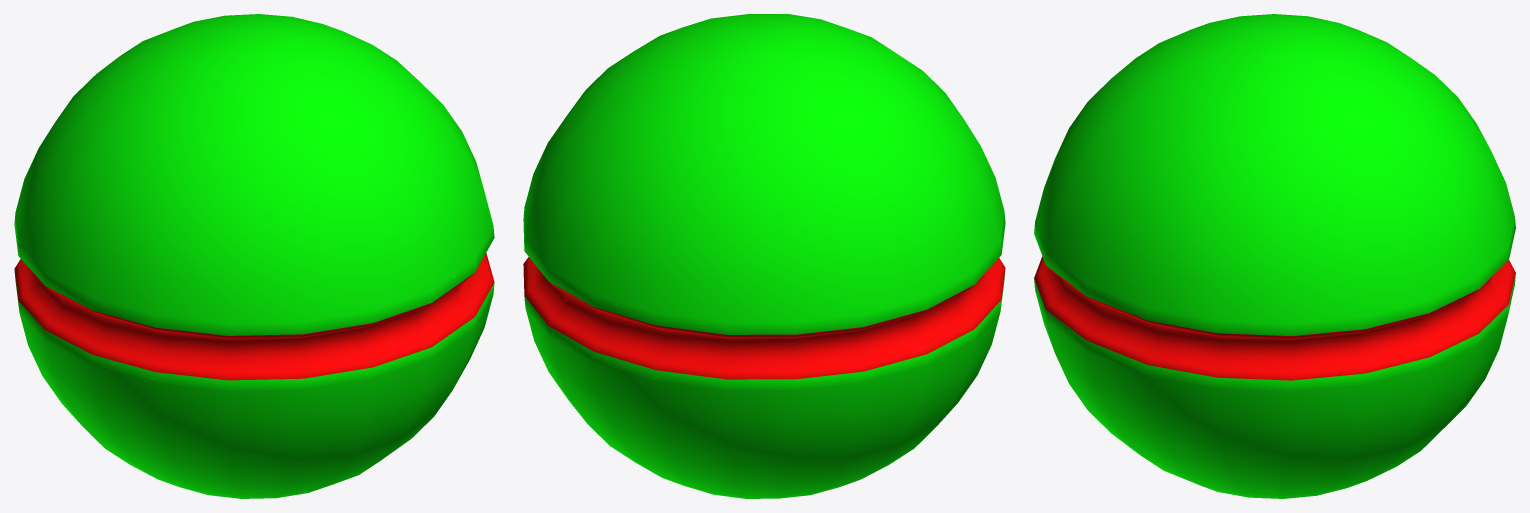
The model's file is ball.obj.
3 views of the same model, side by side, from view 1: azimuth 30°, elevation 25°; view 2: azimuth 150°, elevation 25°; view 3: azimuth 270°, elevation 25° (orthographic).
Visible parts, largest first — view 1: pSphere2; view 2: pSphere2; view 3: pSphere2.
Part boxes in pixels (<box>): pSphere2: <box>14,14,494,498</box>; pSphere2: <box>523,14,1005,498</box>; pSphere2: <box>1034,14,1515,498</box>.
Size of the model in its own units: 3.99 by 3.99 by 3.98.
